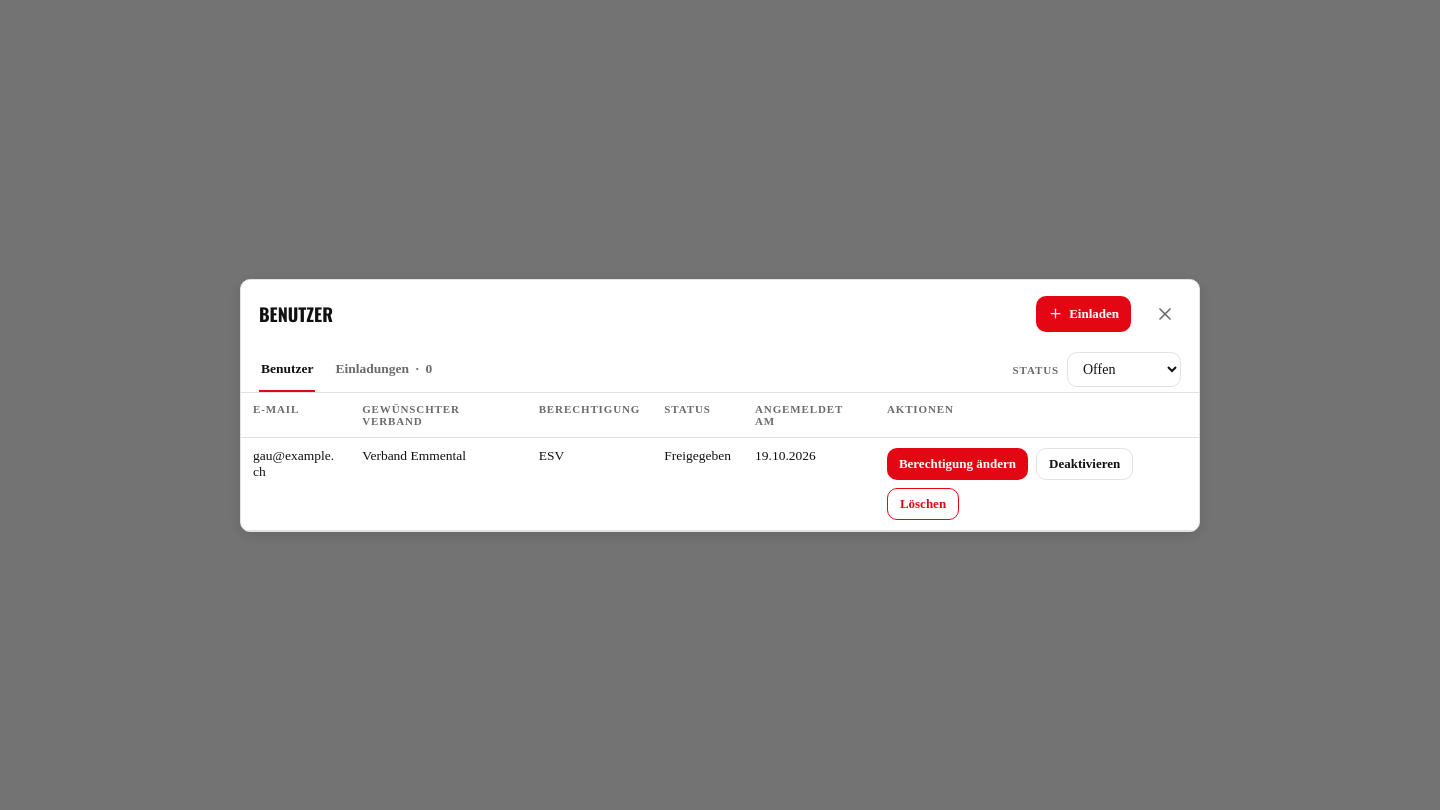
Test case: AccountsPanel › explains a refused suspension of the last super-admin
Click the button "Deaktivieren".
click(1085, 464)  # box [1036,448,1133,480]
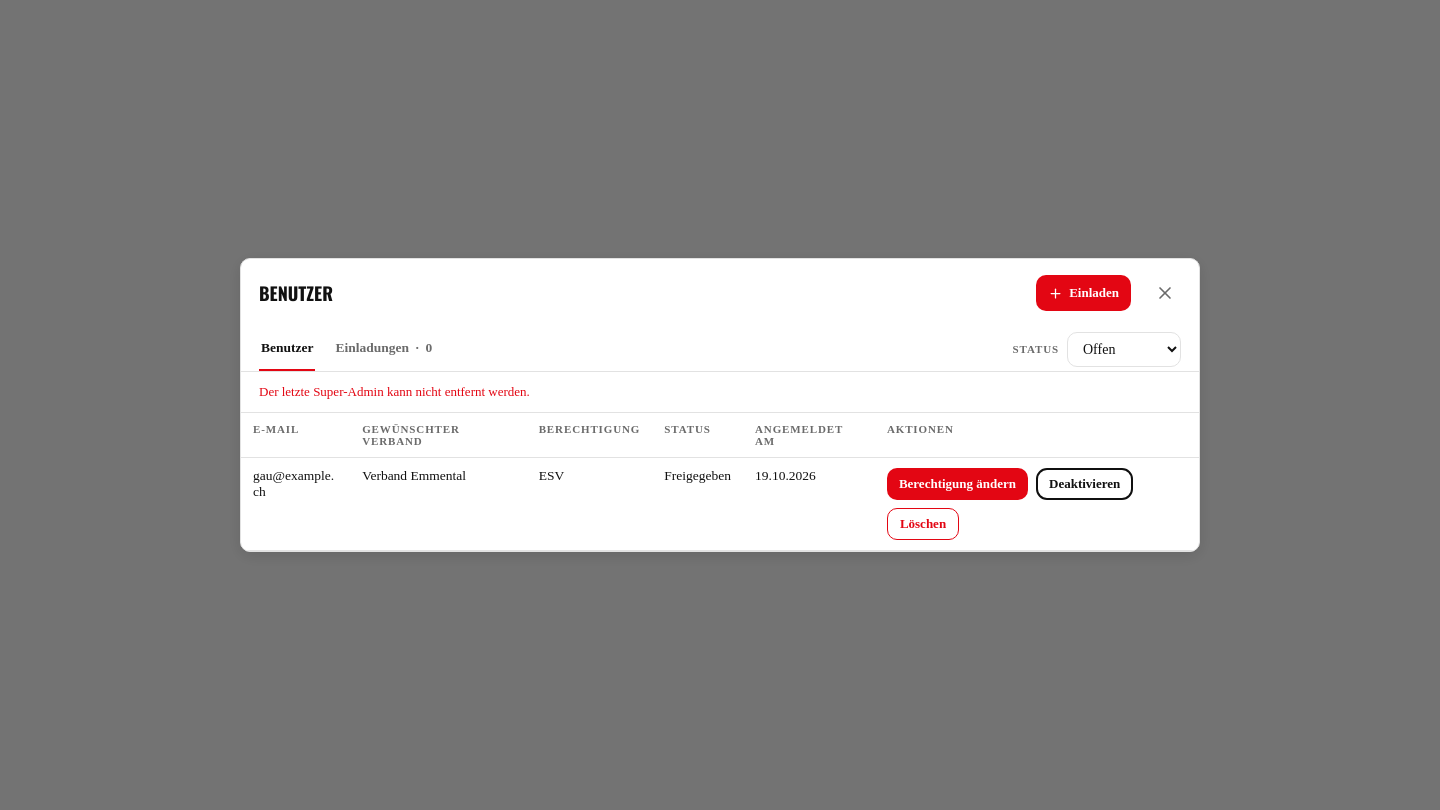
Expected: the message reads "Der letzte Super-Admin kann nicht entfernt werden.", [259,384,530,399]
